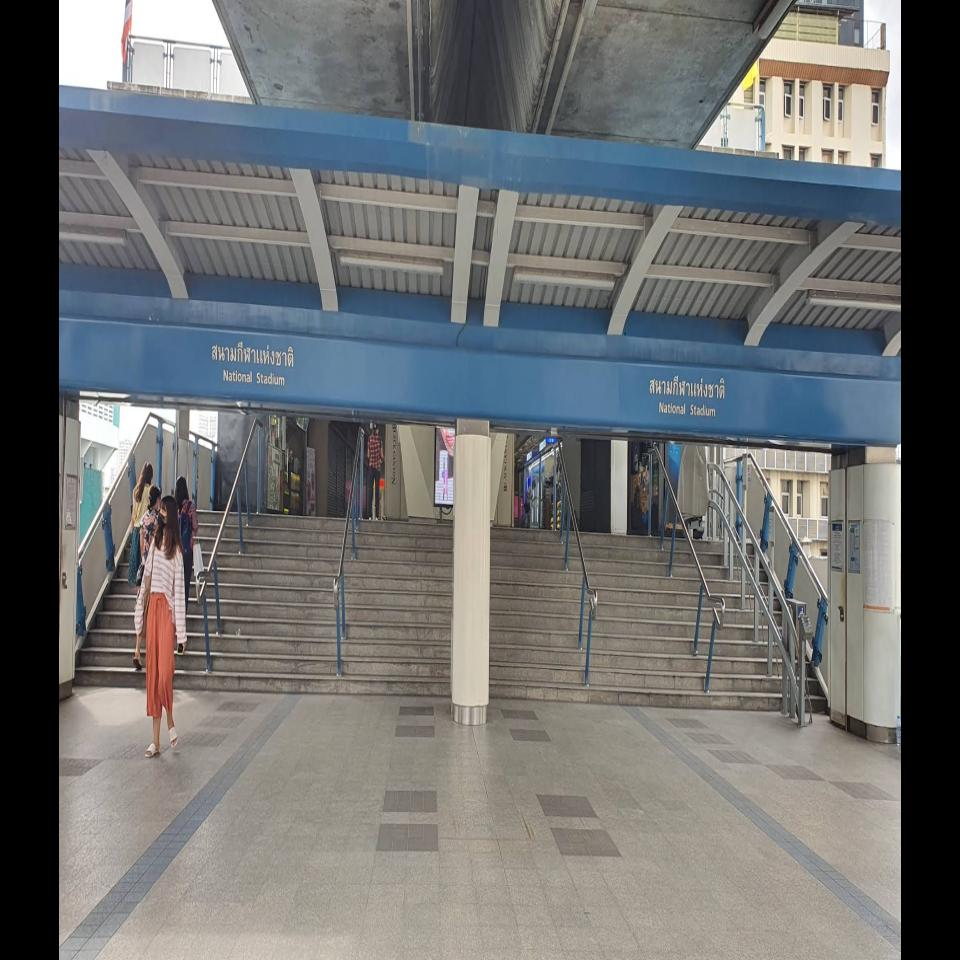signage: (212, 340, 294, 387), (649, 374, 726, 418)
